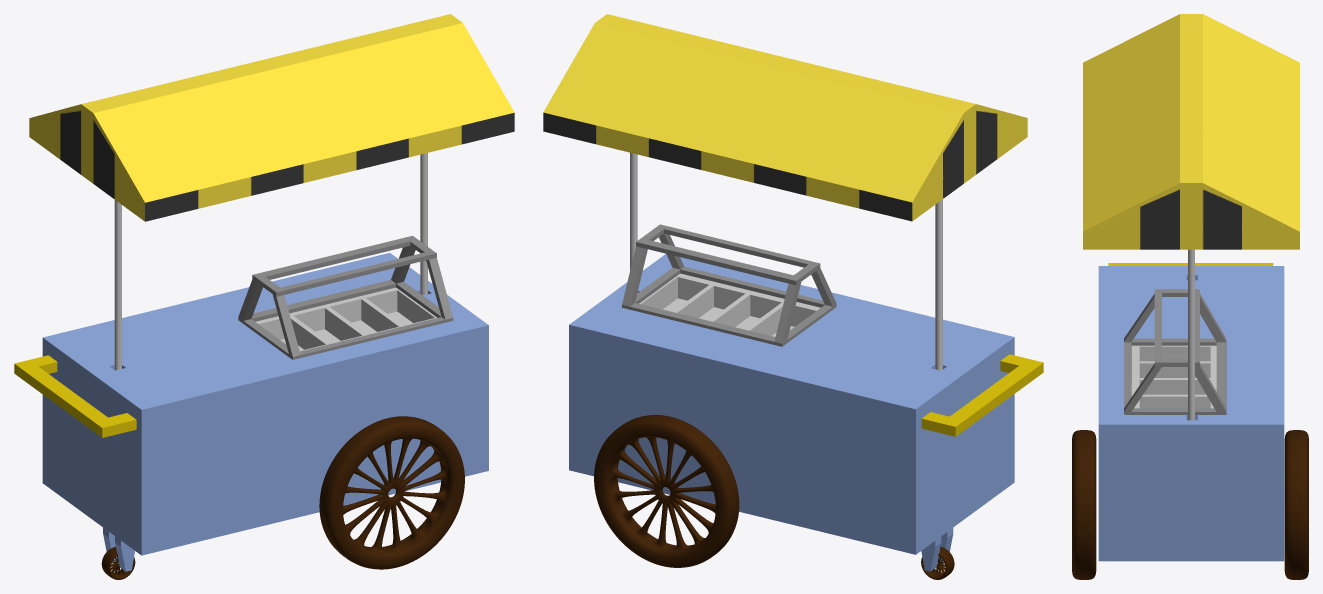
The model's file is Eiswagen.fbx.
3 views of the same model, side by side, from view 1: azimuth 30°, elevation 25°; view 2: azimuth 150°, elevation 25°; view 3: azimuth 270°, elevation 25° (orthographic). The views are drawn at different scales.
Parts seen in each view (by area): view 1: Wagen, Dach, Rad, Eishalter, Eisbehalter.003, Eisbehalter.001, Eisbehalter.002, Stab, Stab.001, Eisbehalter; view 2: Wagen, Dach, Rad.001, Eishalter, Eisbehalter.002, Eisbehalter.003, Eisbehalter.001, Stab, Eisbehalter, Stab.001; view 3: Dach, Wagen, Eishalter, Rad.001, Rad, Stab.001, Eisbehalter, Eisbehalter.002, Eisbehalter.001, Eisbehalter.003.
Part boxes in pixels (bbox=[...]): Wagen: bbox=[14, 253, 488, 571]; Dach: bbox=[29, 14, 514, 221]; Rad: bbox=[319, 416, 464, 569]; Eishalter: bbox=[238, 235, 453, 359]; Eisbehalter.003: bbox=[359, 287, 437, 326]; Eisbehalter.001: bbox=[289, 305, 363, 344]; Eisbehalter.002: bbox=[323, 296, 399, 335]; Stab: bbox=[114, 200, 121, 370]; Stab.001: bbox=[420, 153, 427, 295]; Eisbehalter: bbox=[255, 316, 327, 351]; Wagen: bbox=[569, 254, 1043, 571]; Dach: bbox=[543, 14, 1027, 221]; Rad.001: bbox=[594, 415, 739, 567]; Eishalter: bbox=[622, 224, 836, 346]; Eisbehalter.002: bbox=[674, 282, 752, 321]; Eisbehalter.003: bbox=[639, 273, 716, 312]; Eisbehalter.001: bbox=[710, 291, 784, 329]; Stab: bbox=[935, 199, 942, 370]; Eisbehalter: bbox=[746, 302, 820, 336]; Stab.001: bbox=[630, 152, 637, 270]; Dach: bbox=[1083, 14, 1299, 249]; Wagen: bbox=[1098, 263, 1284, 561]; Eishalter: bbox=[1124, 289, 1226, 414]; Rad.001: bbox=[1284, 430, 1308, 579]; Rad: bbox=[1072, 430, 1096, 579]; Stab.001: bbox=[1188, 249, 1194, 420]; Eisbehalter: bbox=[1131, 345, 1216, 361]; Eisbehalter.002: bbox=[1131, 378, 1216, 396]; Eisbehalter.001: bbox=[1131, 361, 1216, 379]; Eisbehalter.003: bbox=[1131, 395, 1213, 408].
Size of the model in its own units: 573 by 655 by 314.
